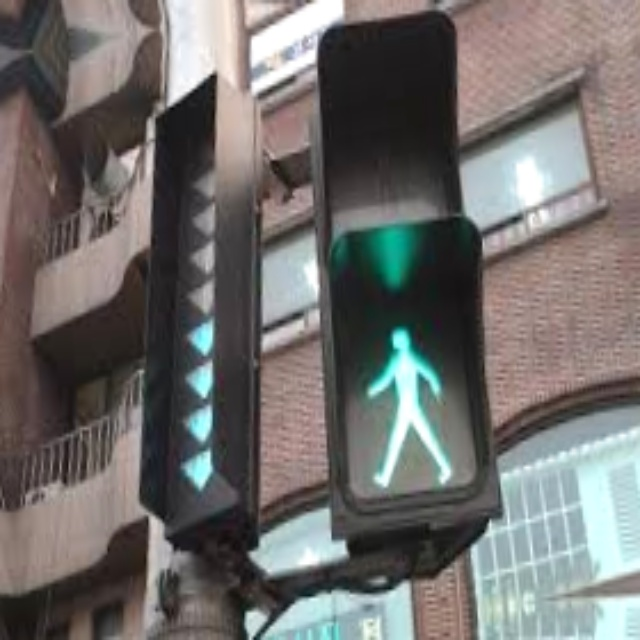green_light: (355, 311, 464, 500), (176, 447, 217, 496), (178, 315, 220, 360), (178, 402, 218, 446), (180, 362, 222, 401)
